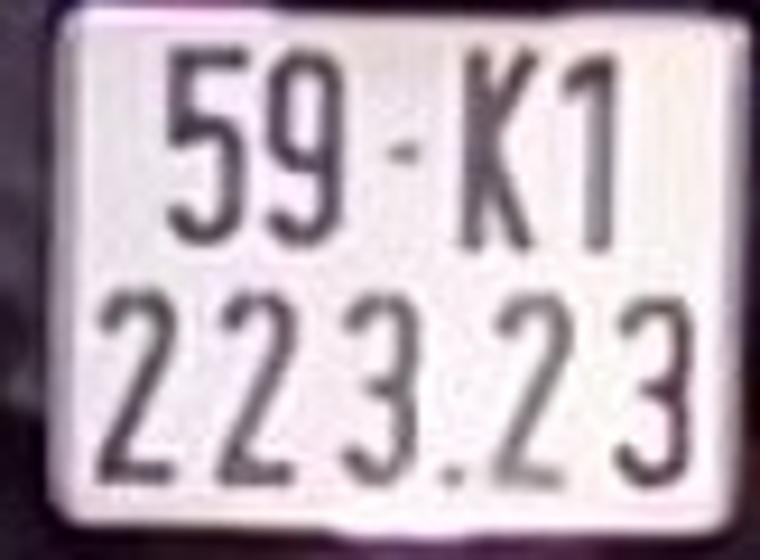-: (378, 138, 422, 173)
.: (431, 465, 469, 497)
1: (554, 50, 623, 257)
2: (86, 287, 182, 495), (213, 291, 300, 495), (491, 287, 571, 496)
3: (333, 291, 424, 489), (609, 290, 698, 490)
5: (157, 41, 258, 247)
9: (261, 47, 342, 251)
K: (459, 42, 540, 252)
